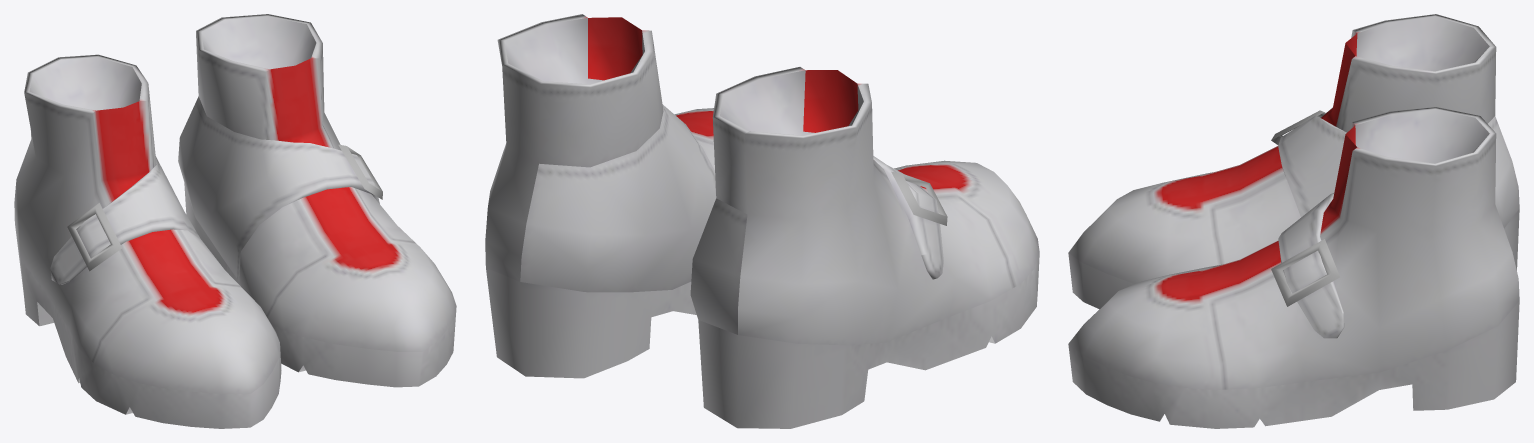
File: p0_ftw1002_00_ftw00.gltf
3 renders of one model, left to right at view 1: azimuth 30°, elevation 25°; view 2: azimuth 150°, elevation 25°; view 3: azimuth 270°, elevation 25°, orthographic. The views are drawn at different scales.
Visible parts, largest first — view 1: ftw00_shoes00_mesh_shape:shoes; view 2: ftw00_shoes00_mesh_shape:shoes; view 3: ftw00_shoes00_mesh_shape:shoes.
Part boxes in pixels (box(x1,y1,x2,y2)): ftw00_shoes00_mesh_shape:shoes: box(14, 14, 456, 428); ftw00_shoes00_mesh_shape:shoes: box(485, 14, 1039, 428); ftw00_shoes00_mesh_shape:shoes: box(1068, 14, 1519, 428).
Size of what is drawn, in the model's own units: 0.2525 by 0.1599 by 0.2626.
1 material, 1 textured.
